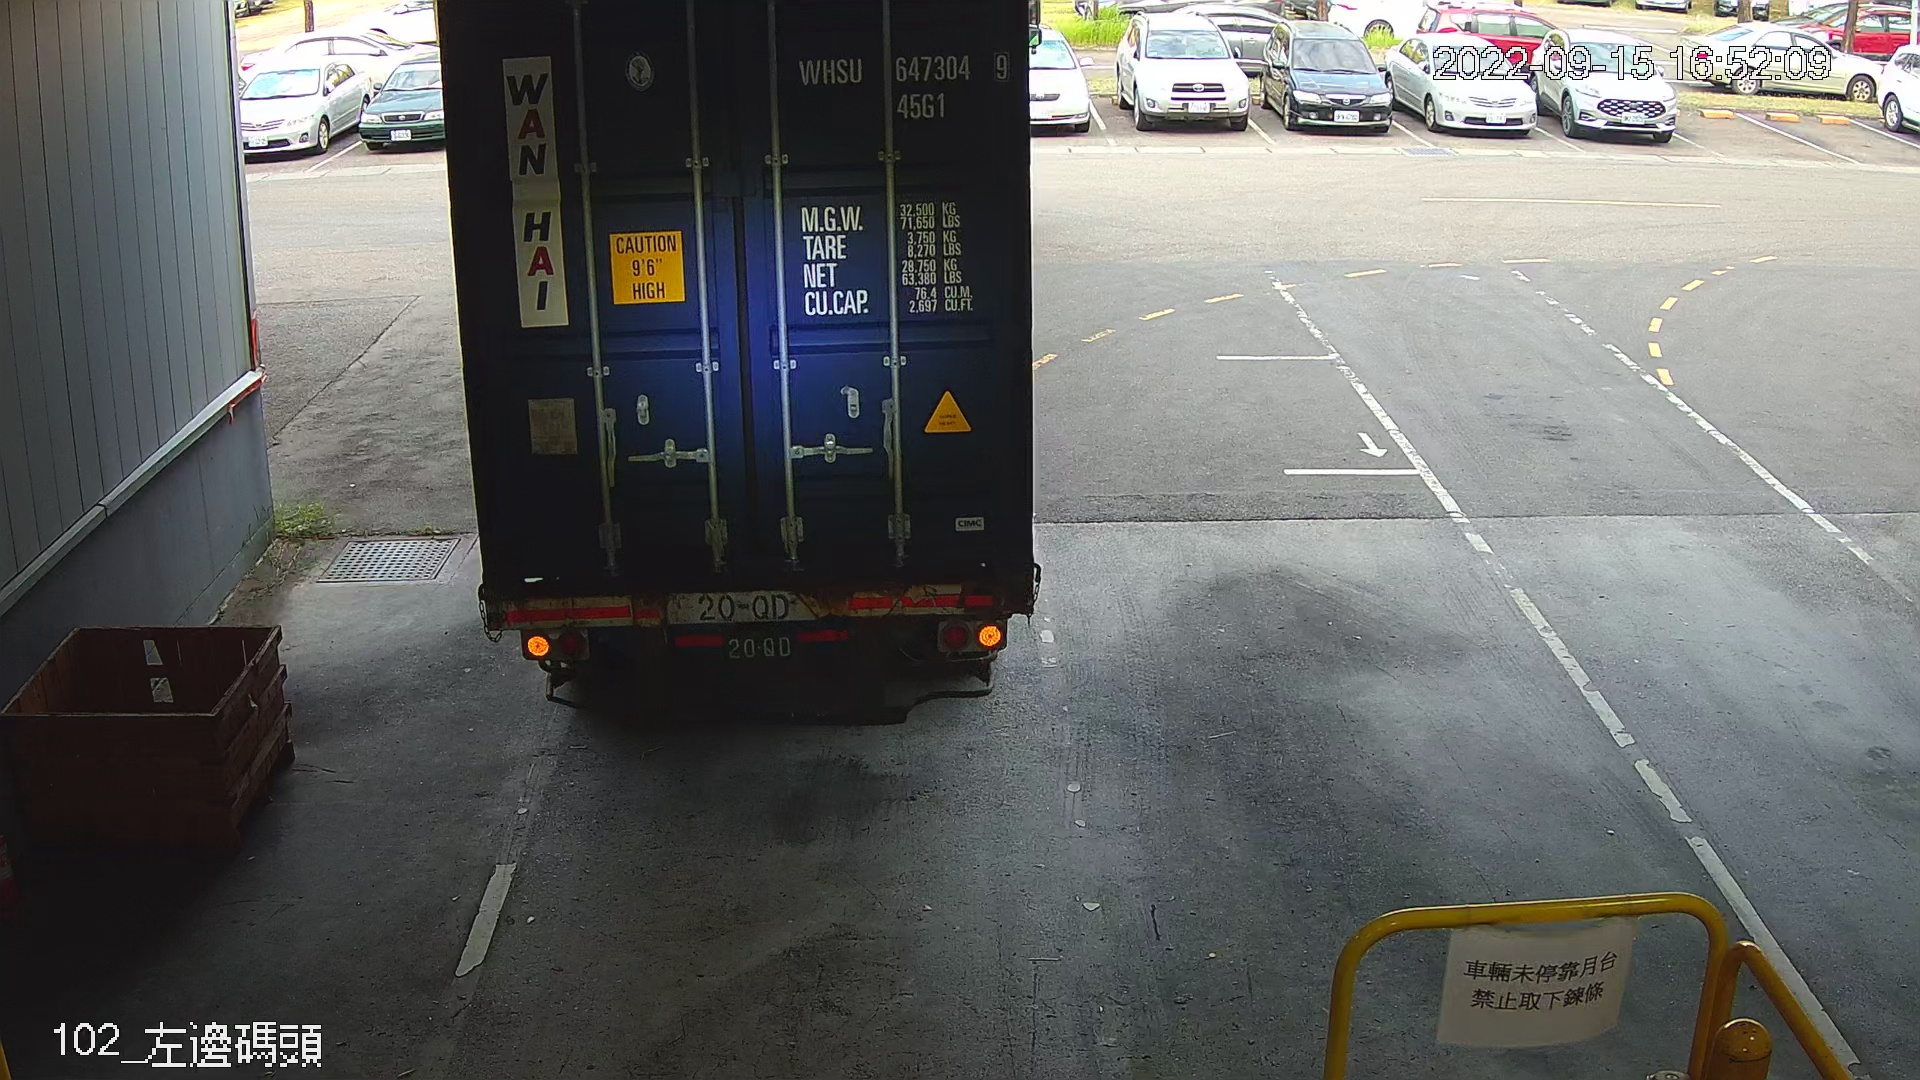container: (787, 41, 1019, 131)
